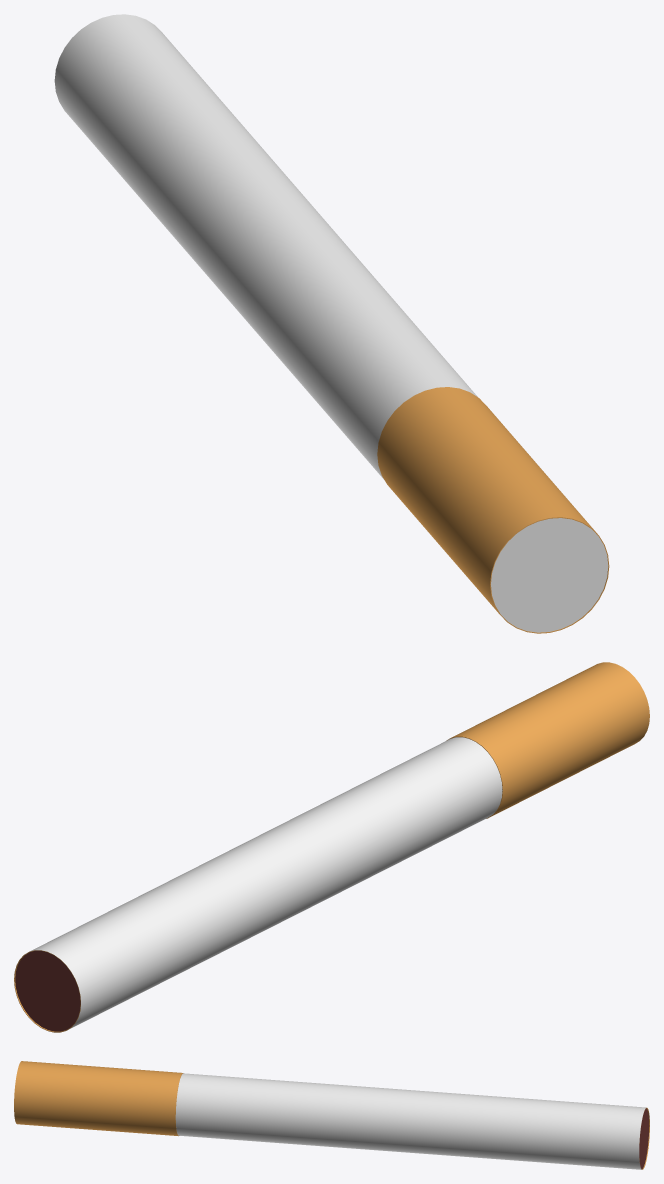
Rendered from rokokk.fbx.
3 renders of one model, top to bottom at view 1: azimuth 30°, elevation 25°; view 2: azimuth 150°, elevation 25°; view 3: azimuth 270°, elevation 25°, orthographic. The views are drawn at different scales.
Parts seen in each view (by area): view 1: cigarette; view 2: cigarette; view 3: cigarette.
Part boxes in pixels (<box>): cigarette: <box>54,14,609,633</box>; cigarette: <box>14,662,649,1032</box>; cigarette: <box>14,1061,649,1169</box>.
Bounding box in the file's own units: 8.22 × 3.05 × 30.54.
